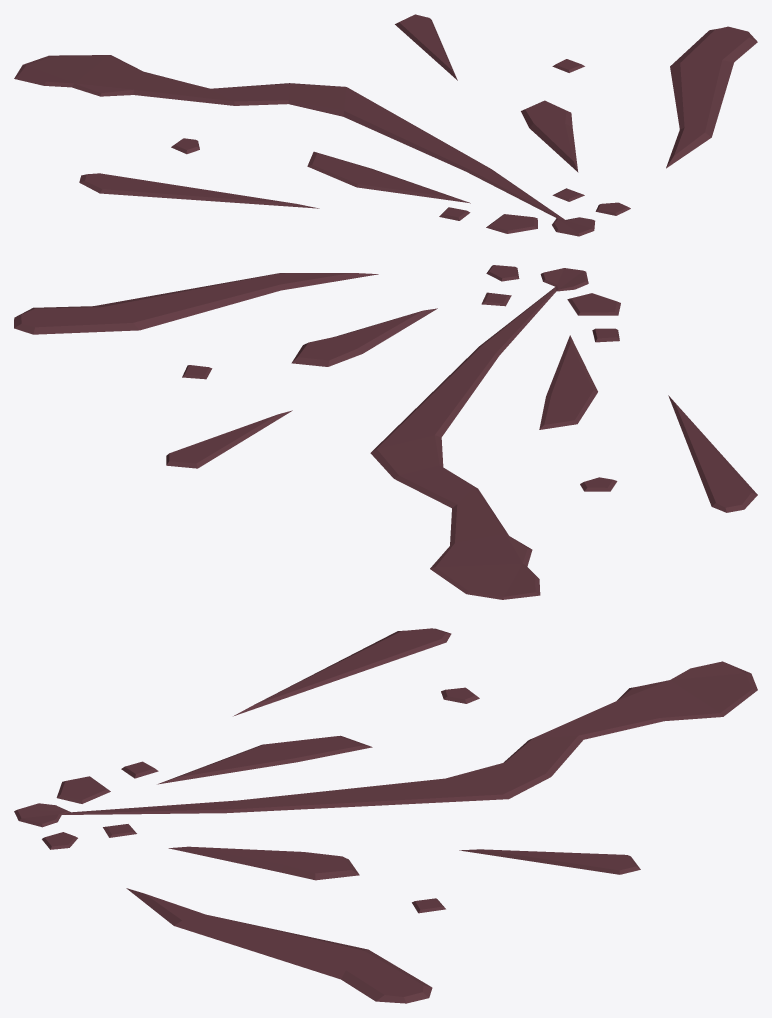
The model's file is blood-b.fbx.
The picture shows the model from 3 angles, top to bottom: view 1: azimuth 30°, elevation 25°; view 2: azimuth 150°, elevation 25°; view 3: azimuth 270°, elevation 25°; orthographic projection. The views are drawn at different scales.
Parts seen in each view (by area): view 1: blood-b; view 2: blood-b; view 3: blood-b.
Boxes of the visible parts, box(x1,y1,x2,y2) form: blood-b: box(14, 14, 757, 236); blood-b: box(14, 265, 757, 599); blood-b: box(14, 628, 757, 1003).
Bounding box in the file's own units: 0.8566 × 0.00433 × 0.7184.
